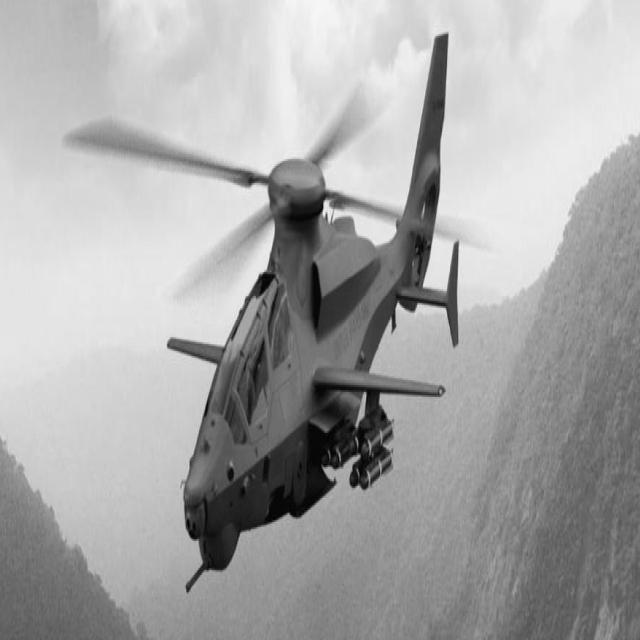helicopter: (62, 17, 475, 611)
